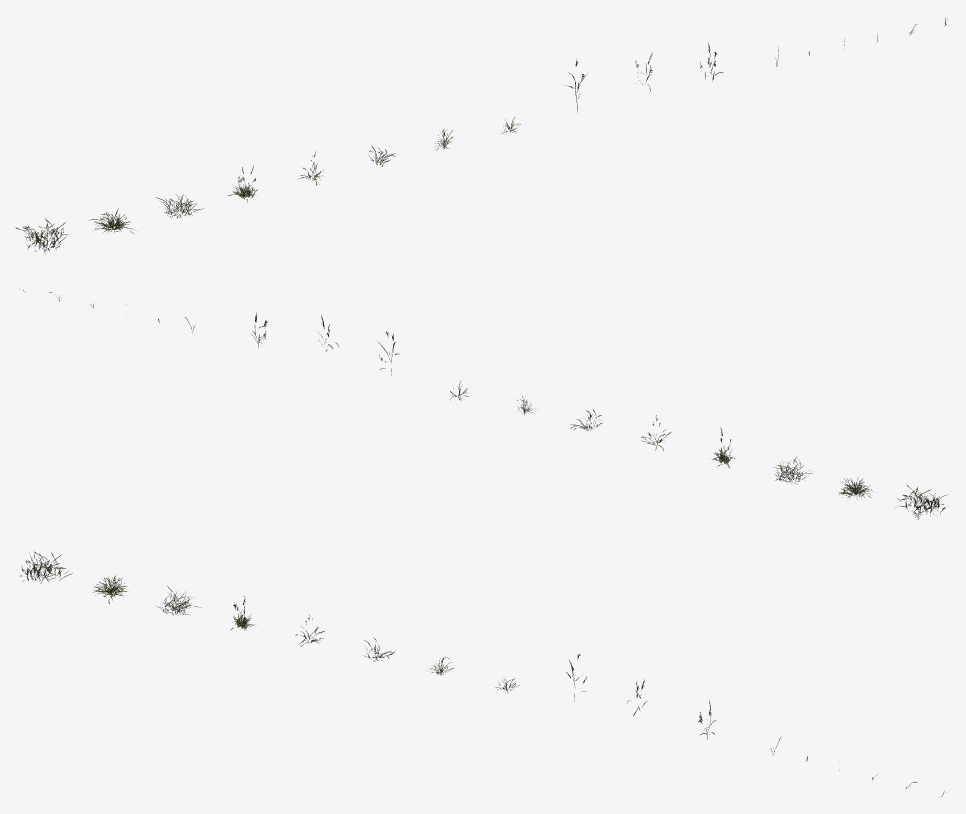
The model's file is grass_medium_01.glb.
The picture shows the model from 3 angles, top to bottom: view 1: azimuth 30°, elevation 25°; view 2: azimuth 150°, elevation 25°; view 3: azimuth 330°, elevation 25°; orthographic projection.
Visible parts, largest first — view 1: grass_medium_01_small_a_LOD0; view 2: grass_medium_01_small_a_LOD0; view 3: grass_medium_01_small_a_LOD0.
Boxes of the visible parts, <box> form: grass_medium_01_small_a_LOD0: <box>15,17,948,253</box>; grass_medium_01_small_a_LOD0: <box>19,289,948,519</box>; grass_medium_01_small_a_LOD0: <box>20,551,944,796</box>.
Bounding box in the file's own units: 5.58 × 0.338 × 0.3045.
Materials: 1 (1 with a texture image).
